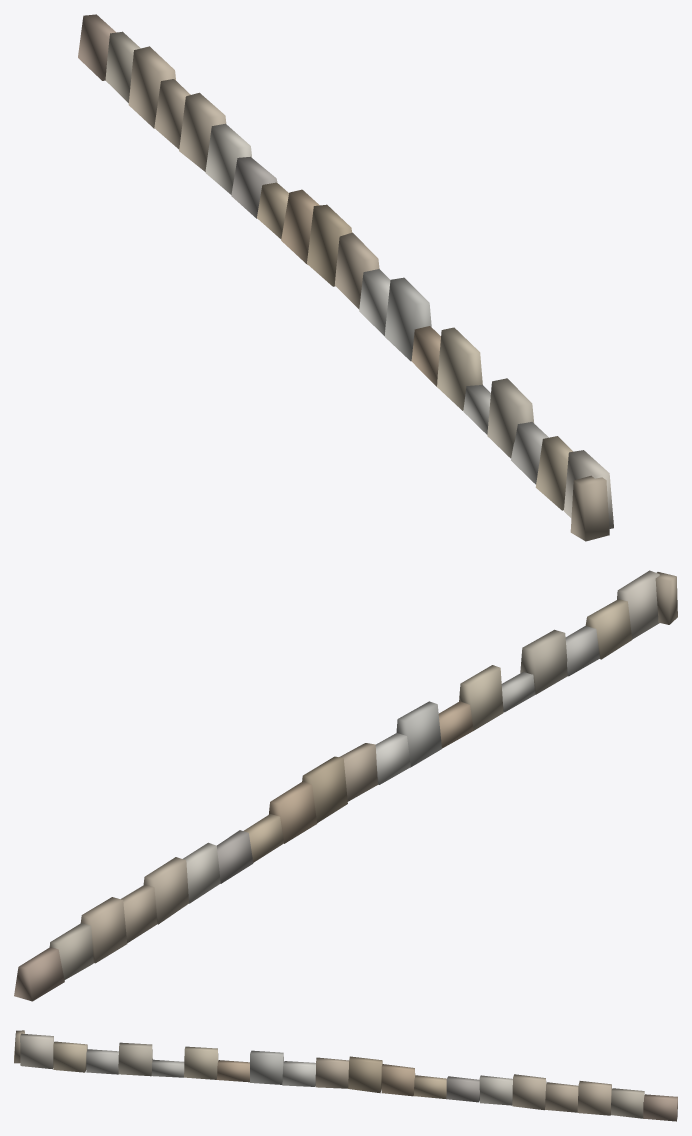
Rendered from farm_16_16_far.glb.
The picture shows the model from 3 angles, top to bottom: view 1: azimuth 30°, elevation 25°; view 2: azimuth 150°, elevation 25°; view 3: azimuth 270°, elevation 25°; orthographic projection. The views are drawn at different scales.
Visible parts, largest first — view 1: geometry_0; view 2: geometry_0; view 3: geometry_0.
Part boxes in pixels (left/top/right/bottom): geometry_0: left=78, top=14, right=613, bottom=541; geometry_0: left=14, top=570, right=677, bottom=1001; geometry_0: left=14, top=1030, right=677, bottom=1121.
Size of the model in its own units: 5.06 by 2.56 by 31.9.
